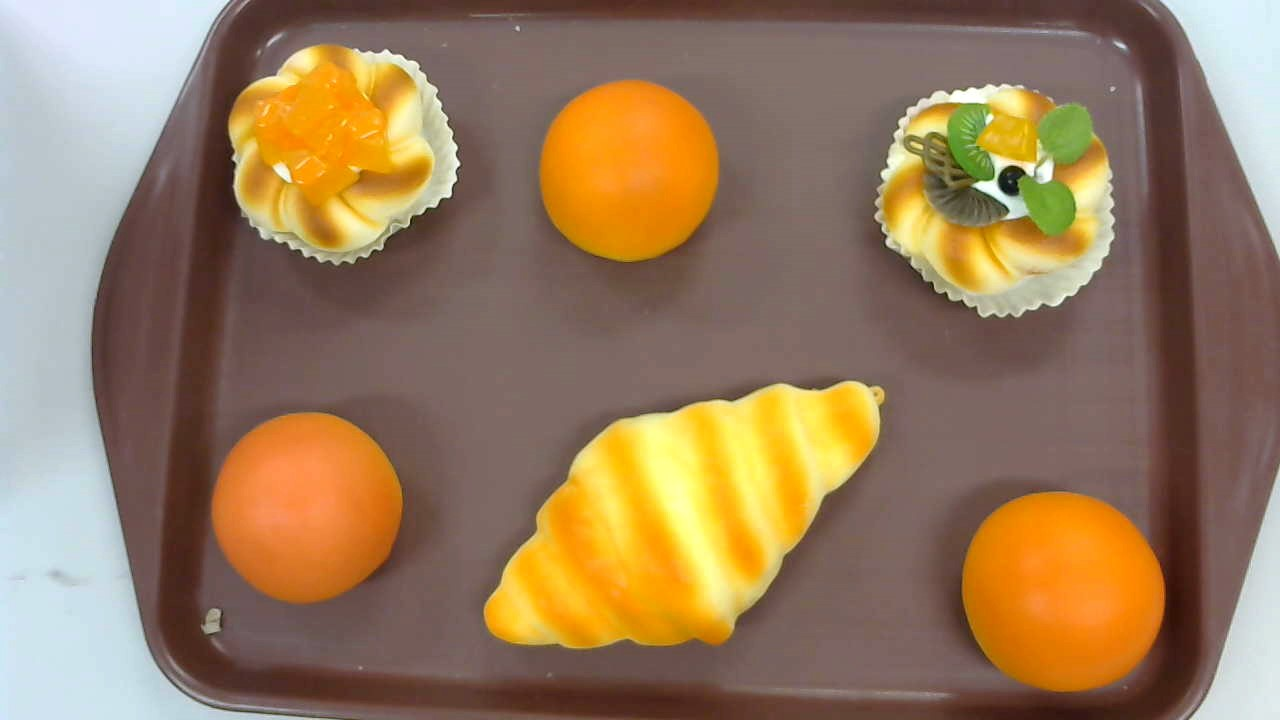bun: (960, 491, 1165, 692), (210, 411, 401, 604), (538, 80, 719, 263)
croissant: (483, 381, 886, 650)
fruit tart: (873, 84, 1117, 317)
mango tart: (227, 44, 460, 267)
